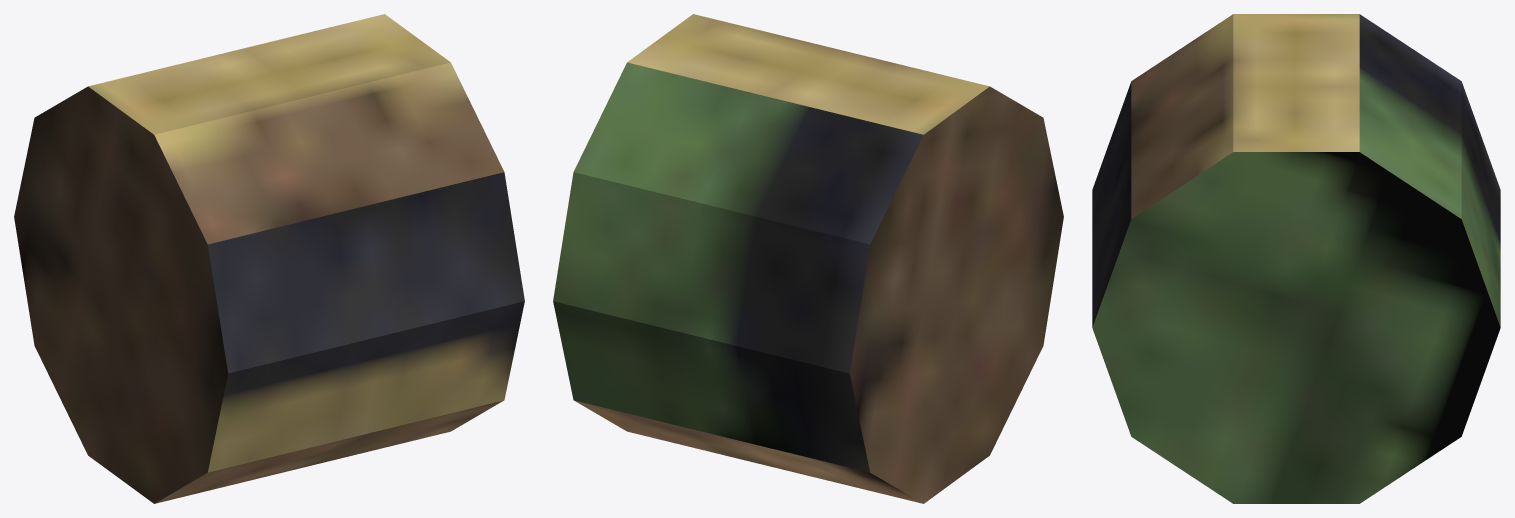
Rendered from SM_HayBale_Round.fbx.
The picture shows the model from 3 angles, left to right: view 1: azimuth 30°, elevation 25°; view 2: azimuth 150°, elevation 25°; view 3: azimuth 270°, elevation 25°; orthographic projection. The views are drawn at different scales.
Visible parts, largest first — view 1: SM_HayBale_Round; view 2: SM_HayBale_Round; view 3: SM_HayBale_Round.
Part boxes in pixels (x1,y1,x2,y2): SM_HayBale_Round: (14,14,524,503); SM_HayBale_Round: (553,14,1063,503); SM_HayBale_Round: (1092,14,1500,503).
Bounding box in the file's own units: 120 × 143 × 150.
Materials: 1 (1 with a texture image).
